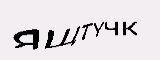Г: (28, 5, 47, 31)
З: (81, 3, 100, 29)
Т: (64, 2, 81, 22)
У: (42, 2, 65, 31)
Ш: (98, 9, 131, 33)
